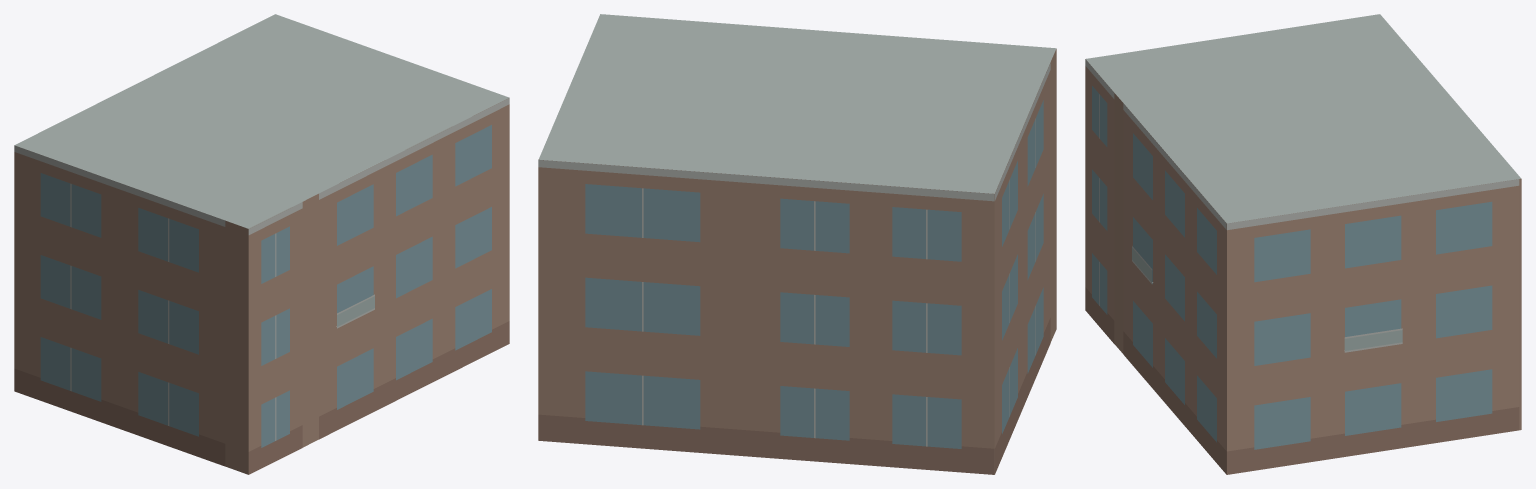
Rendered from survey-upis-32702955.glb.
3 renders of one model, left to right at view 1: azimuth 30°, elevation 25°; view 2: azimuth 150°, elevation 25°; view 3: azimuth 270°, elevation 25°, orthographic. The views are drawn at different scales.
Visible parts, largest first — view 1: survey-upis-32702955.tmp; view 2: survey-upis-32702955.tmp; view 3: survey-upis-32702955.tmp.
Boxes of the visible parts, left/top/right/bottom form: survey-upis-32702955.tmp: left=14, top=14, right=509, bottom=474; survey-upis-32702955.tmp: left=538, top=14, right=1056, bottom=474; survey-upis-32702955.tmp: left=1085, top=14, right=1521, bottom=474.
Size of the model in its own units: 16.37 by 9.15 by 14.4.
